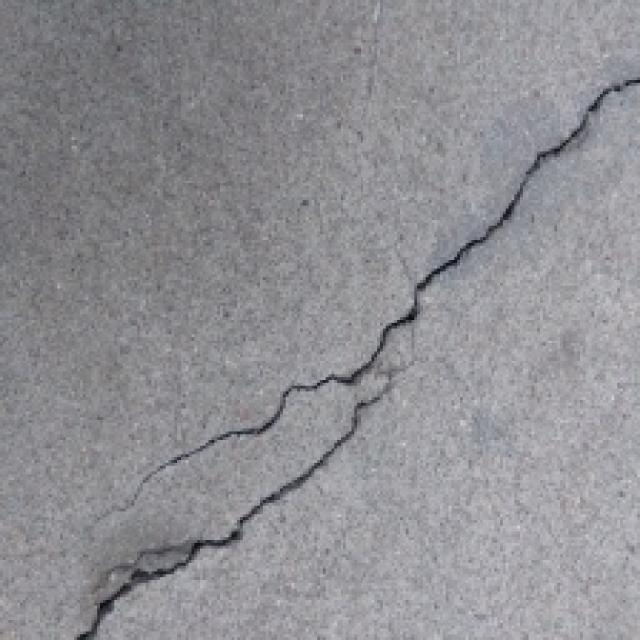SurfaceCrack: (64, 58, 640, 640)
